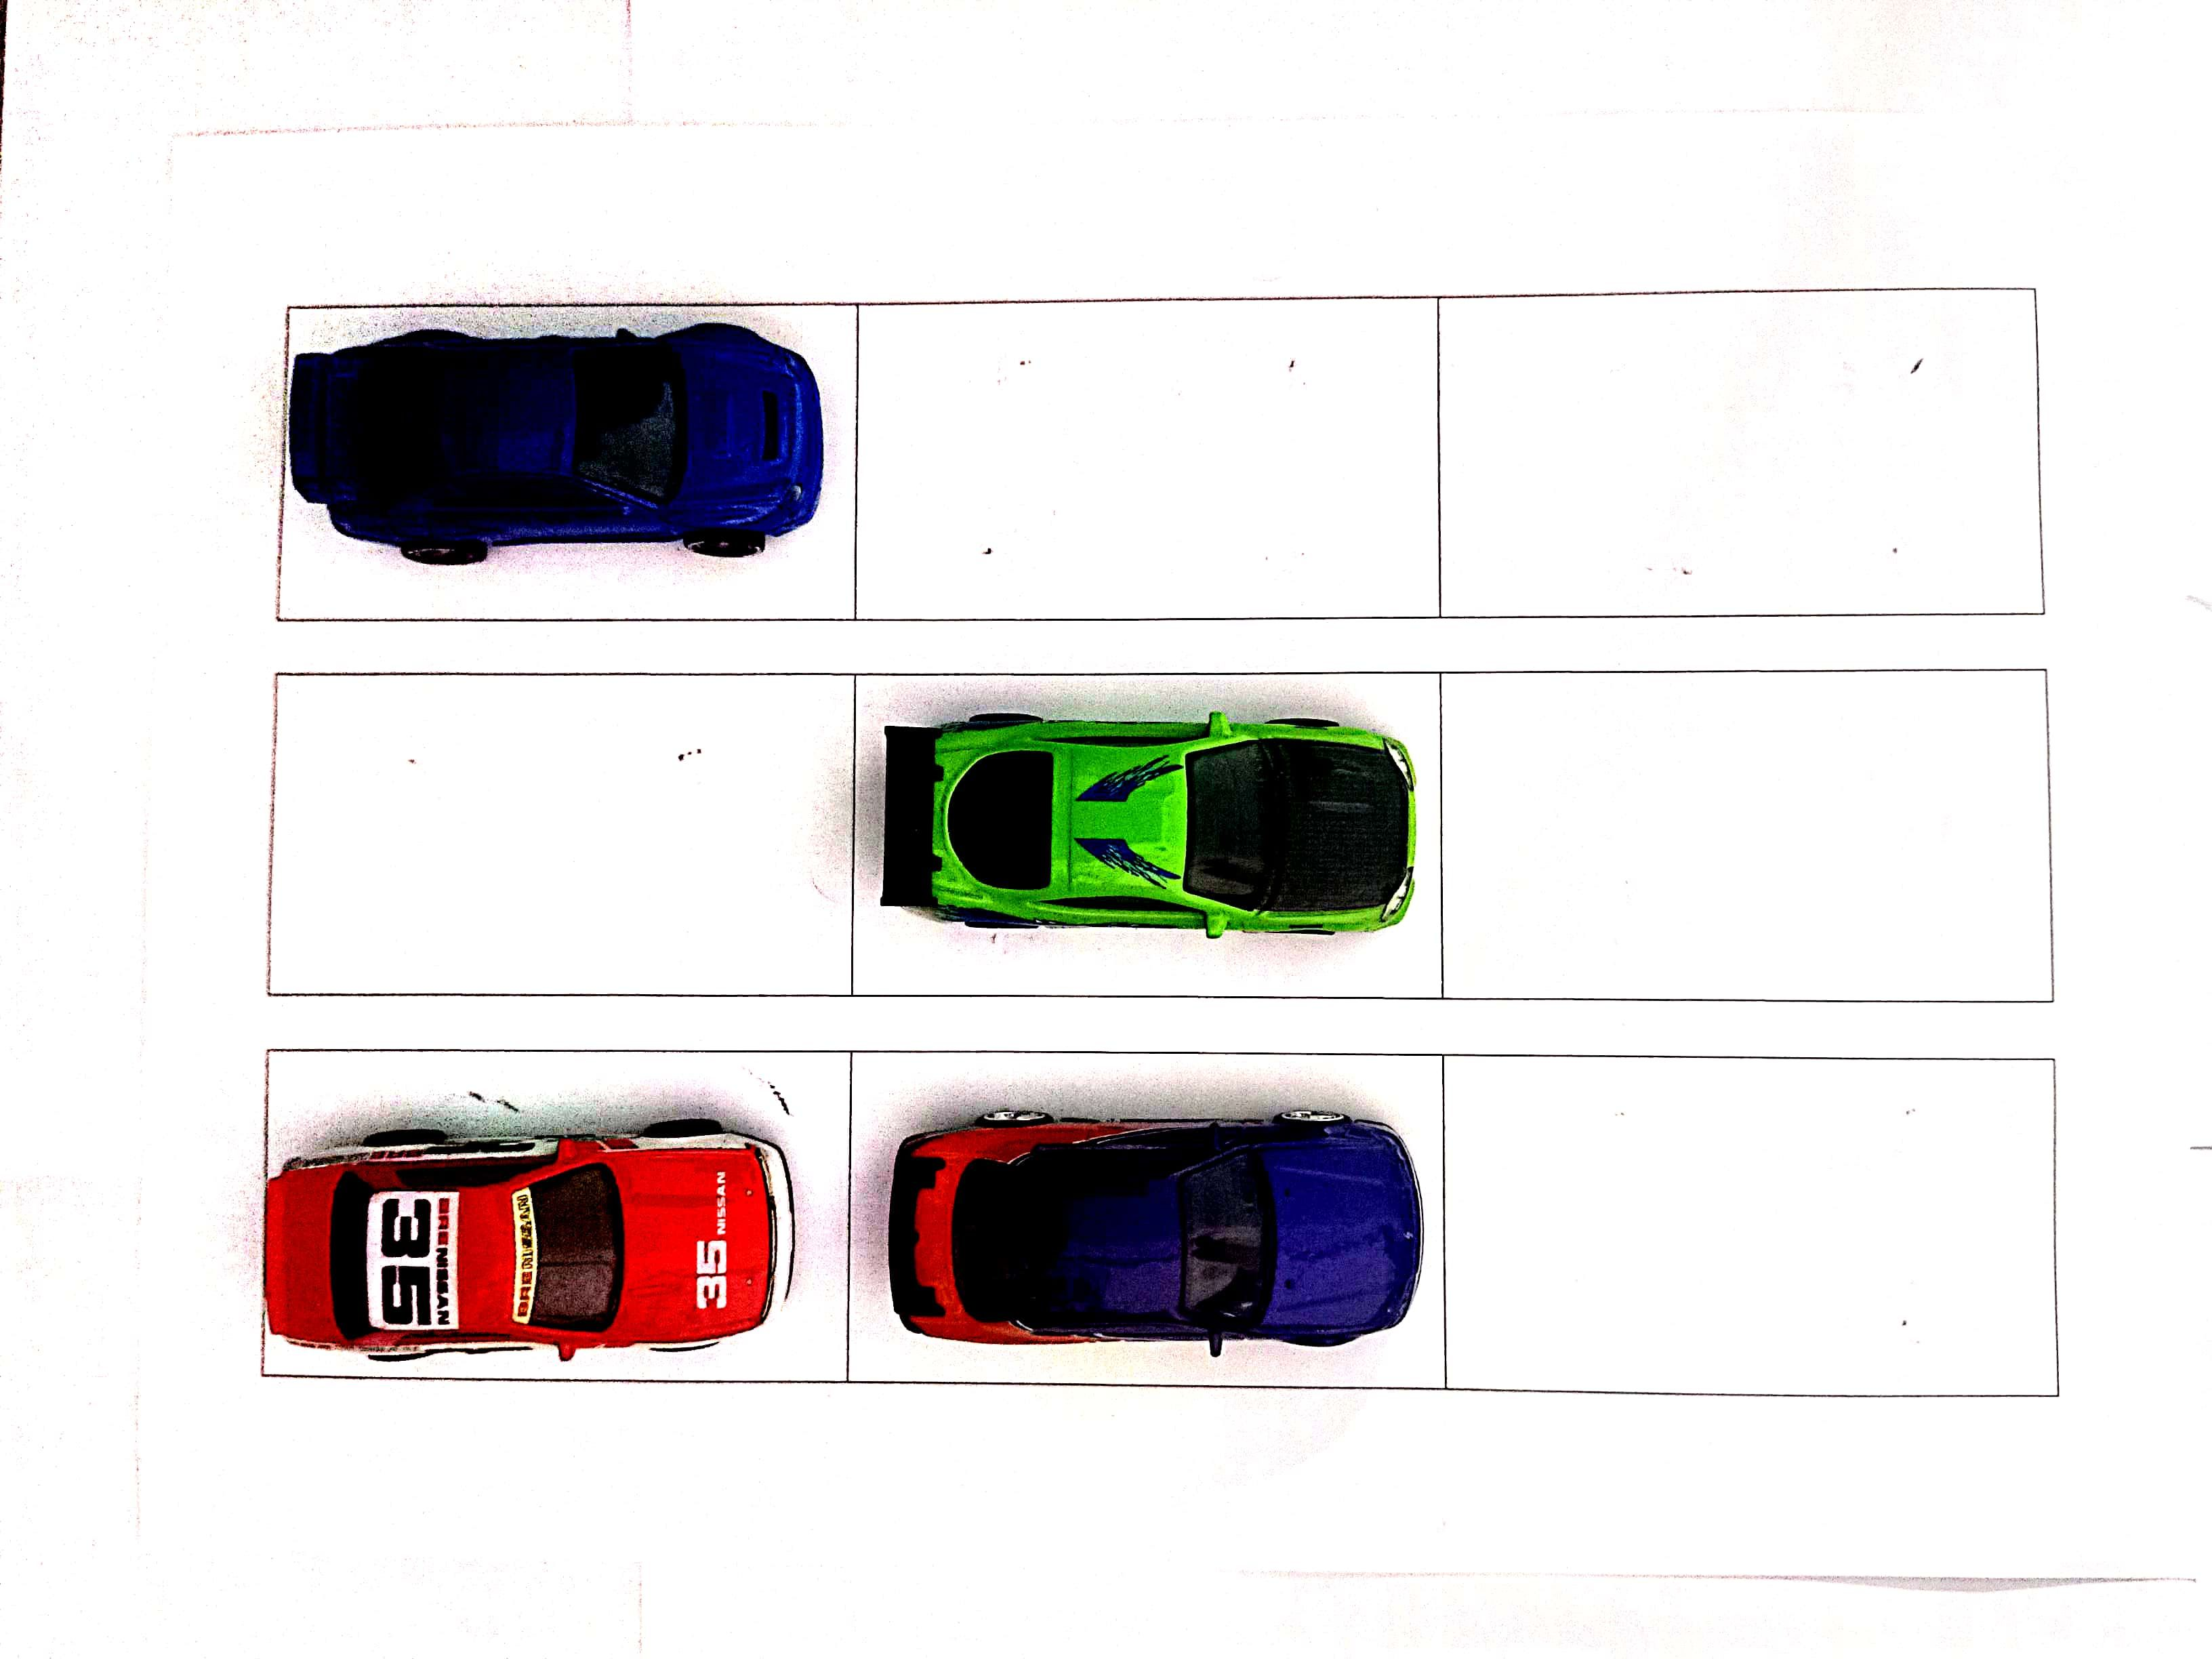Busy: (840, 659, 1446, 1004), (239, 1044, 852, 1380), (852, 1058, 1451, 1385), (291, 312, 859, 606)
Free: (1447, 1046, 2057, 1394), (857, 288, 1442, 615), (1446, 296, 2041, 613), (1458, 674, 2045, 995), (273, 673, 834, 995)
